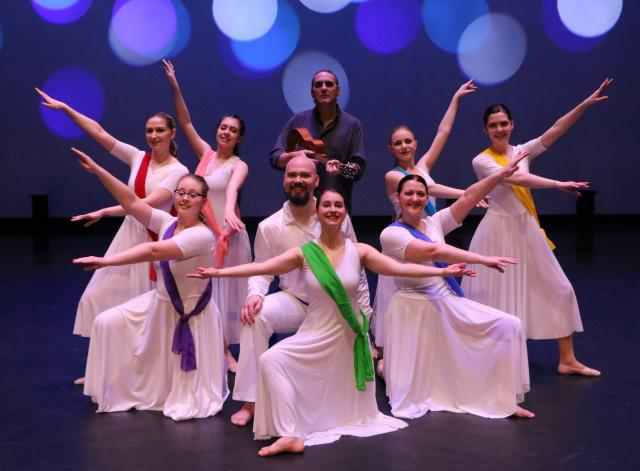Dancer: (456, 73, 613, 395)
Female: (81, 115, 241, 427), (294, 191, 356, 381)
Male: (283, 71, 352, 146), (272, 146, 317, 212)
